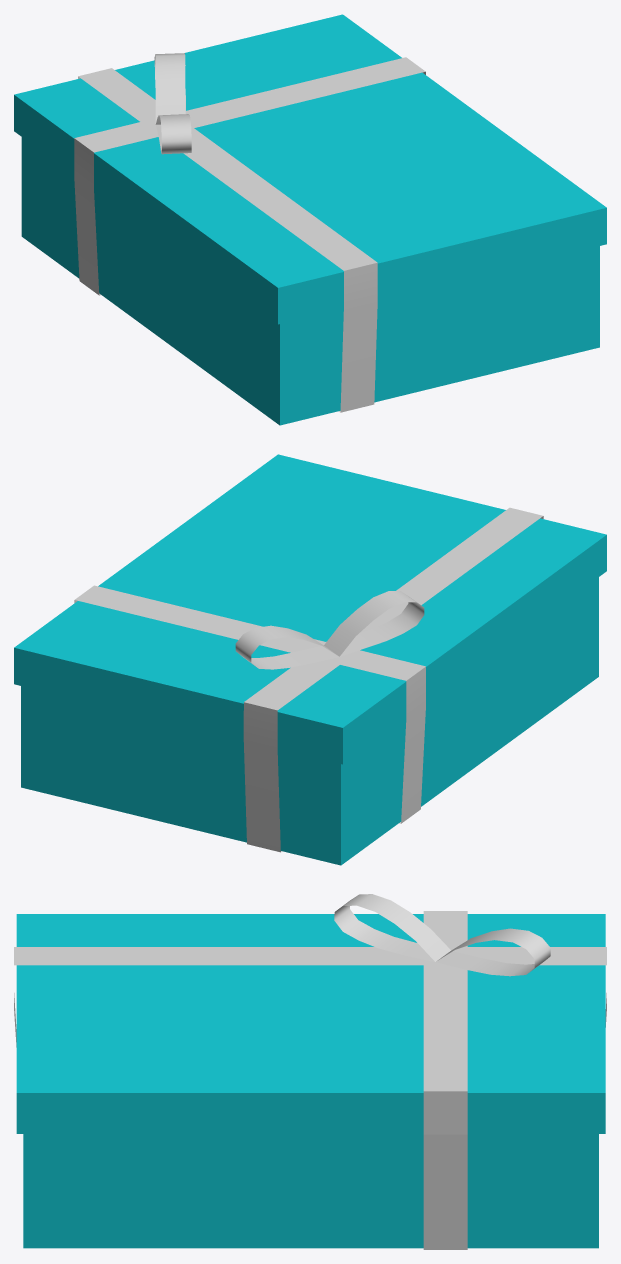
Rendered from PresentCuboid.fbx.
3 views of the same model, one above another, from view 1: azimuth 30°, elevation 25°; view 2: azimuth 150°, elevation 25°; view 3: azimuth 270°, elevation 25° (orthographic). The views are drawn at different scales.
Parts seen in each view (by area): view 1: pRibbon, pBox, pLid, pRibbonBow; view 2: pRibbon, pBox, pLid, pRibbonBow; view 3: pRibbon, pBox, pLid, pRibbonBow.
Part boxes in pixels (x1,y1,x2,y2): pRibbon: [14, 14, 606, 324]; pBox: [21, 137, 599, 425]; pLid: [74, 57, 425, 412]; pRibbonBow: [154, 53, 191, 154]; pRibbon: [14, 454, 606, 764]; pBox: [21, 577, 598, 865]; pLid: [74, 507, 543, 852]; pRibbonBow: [235, 591, 424, 669]; pRibbon: [16, 914, 605, 1133]; pBox: [23, 1134, 598, 1248]; pLid: [14, 911, 606, 1249]; pRibbonBow: [334, 894, 550, 976].
Size of the model in its own units: 12.6 by 6.59 by 17.49.
